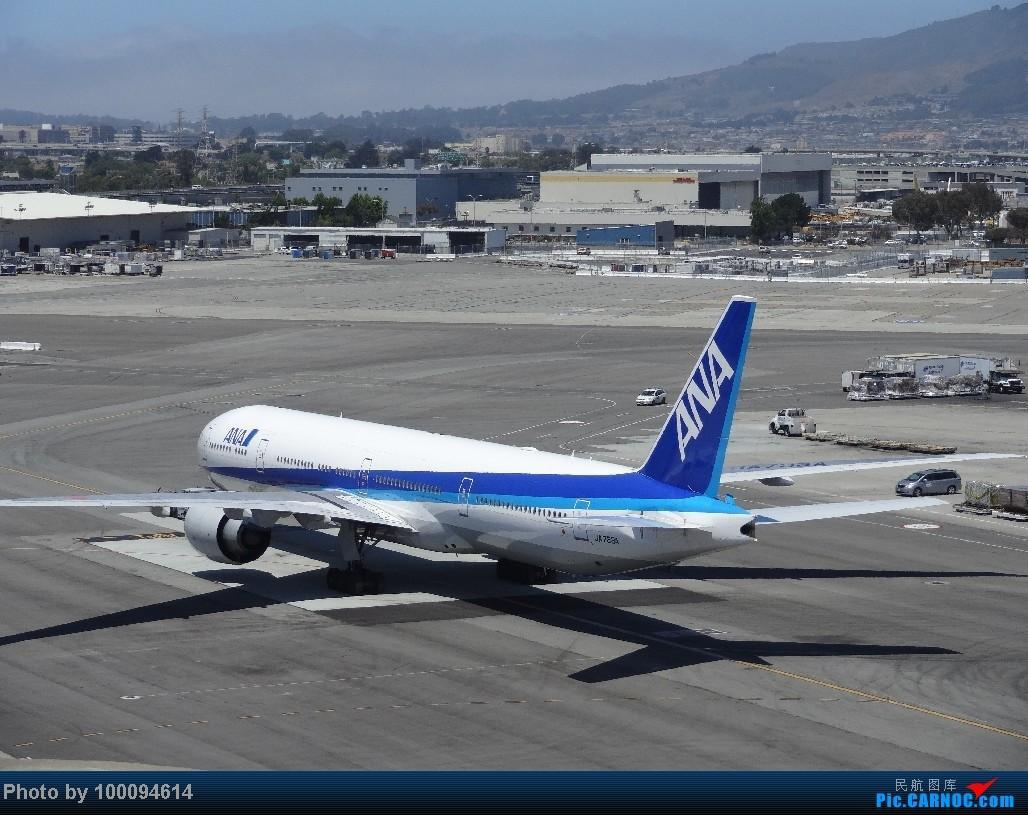airplane: (3, 269, 1023, 602)
